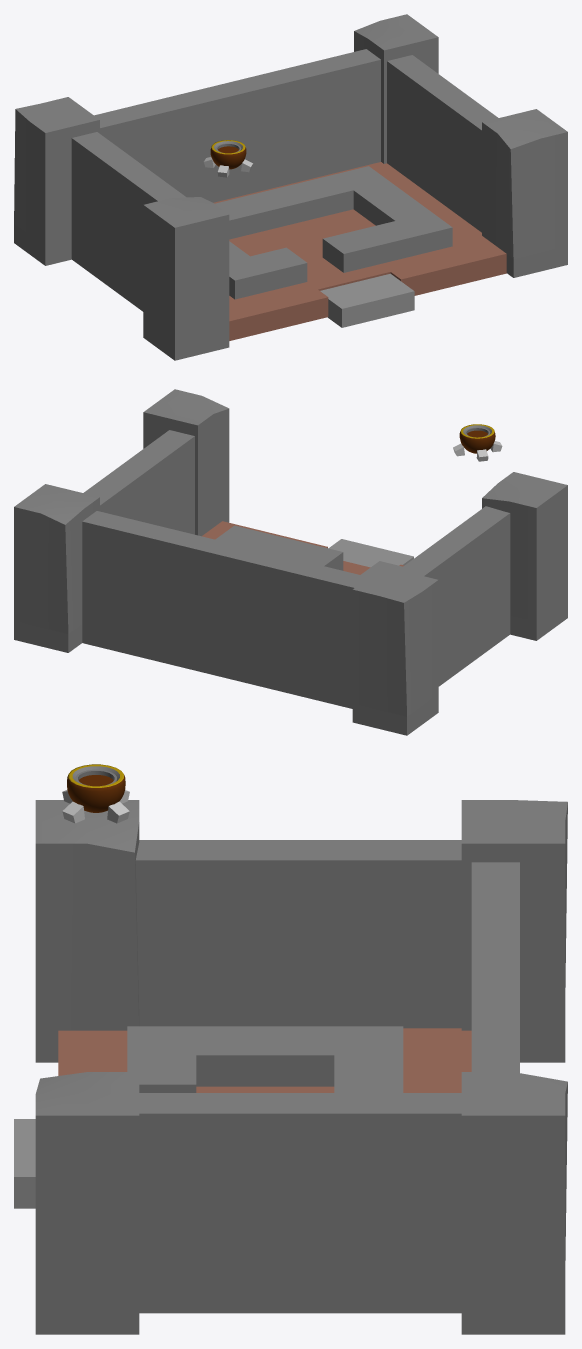
The model's file is Int_Marine_house (1).fbx.
3 views of the same model, one above another, from view 1: azimuth 30°, elevation 25°; view 2: azimuth 150°, elevation 25°; view 3: azimuth 270°, elevation 25° (orthographic). The views are drawn at different scales.
Visible parts, largest first — view 1: ZLD_MOD_INT_MARINE_HOUSE_wip_v001_0005:base_interieur, ZLD_MOD_INT_MARINE_HOUSE_wip_v001_0005:mur2, ZLD_MOD_INT_MARINE_HOUSE_wip_v001_0005:pillier4, ZLD_MOD_INT_MARINE_HOUSE_wip_v001_0005:pillier5, ZLD_MOD_INT_MARINE_HOUSE_wip_v001_0005:pCube2, ZLD_MOD_INT_MARINE_HOUSE_wip_v001_0005:pCube1, ZLD_MOD_INT_MARINE_HOUSE_wip_v001_0005:pillier3, ZLD_MOD_INT_MARINE_HOUSE_wip_v001_0005:pillier2, ZLD_MOD_INT_MARINE_HOUSE_wip_v001_0005:polySurface3, ZLD_MOD_INT_MARINE_HOUSE_wip_v001_0005:pot_brasero1; view 2: ZLD_MOD_INT_MARINE_HOUSE_wip_v001_0005:mur2, ZLD_MOD_INT_MARINE_HOUSE_wip_v001_0005:pillier3, ZLD_MOD_INT_MARINE_HOUSE_wip_v001_0005:pCube1, ZLD_MOD_INT_MARINE_HOUSE_wip_v001_0005:pillier2, ZLD_MOD_INT_MARINE_HOUSE_wip_v001_0005:pillier4, ZLD_MOD_INT_MARINE_HOUSE_wip_v001_0005:pCube2, ZLD_MOD_INT_MARINE_HOUSE_wip_v001_0005:pillier5, ZLD_MOD_INT_MARINE_HOUSE_wip_v001_0005:base_interieur, ZLD_MOD_INT_MARINE_HOUSE_wip_v001_0005:polySurface3, ZLD_MOD_INT_MARINE_HOUSE_wip_v001_0005:pot_brasero1; view 3: ZLD_MOD_INT_MARINE_HOUSE_wip_v001_0005:pCube2, ZLD_MOD_INT_MARINE_HOUSE_wip_v001_0005:pCube1, ZLD_MOD_INT_MARINE_HOUSE_wip_v001_0005:pillier2, ZLD_MOD_INT_MARINE_HOUSE_wip_v001_0005:pillier5, ZLD_MOD_INT_MARINE_HOUSE_wip_v001_0005:base_interieur, ZLD_MOD_INT_MARINE_HOUSE_wip_v001_0005:pillier4, ZLD_MOD_INT_MARINE_HOUSE_wip_v001_0005:pillier3, ZLD_MOD_INT_MARINE_HOUSE_wip_v001_0005:mur2, ZLD_MOD_INT_MARINE_HOUSE_wip_v001_0005:pot_brasero1, ZLD_MOD_INT_MARINE_HOUSE_wip_v001_0005:polySurface3.
Part boxes in pixels (left/top/right/bottom): ZLD_MOD_INT_MARINE_HOUSE_wip_v001_0005:base_interieur: left=213, top=162, right=506, bottom=340; ZLD_MOD_INT_MARINE_HOUSE_wip_v001_0005:mur2: left=94, top=49, right=380, bottom=202; ZLD_MOD_INT_MARINE_HOUSE_wip_v001_0005:pillier4: left=143, top=197, right=229, bottom=360; ZLD_MOD_INT_MARINE_HOUSE_wip_v001_0005:pillier5: left=482, top=109, right=567, bottom=277; ZLD_MOD_INT_MARINE_HOUSE_wip_v001_0005:pCube2: left=387, top=55, right=498, bottom=232; ZLD_MOD_INT_MARINE_HOUSE_wip_v001_0005:pCube1: left=71, top=132, right=186, bottom=311; ZLD_MOD_INT_MARINE_HOUSE_wip_v001_0005:pillier3: left=14, top=97, right=99, bottom=265; ZLD_MOD_INT_MARINE_HOUSE_wip_v001_0005:pillier2: left=354, top=14, right=438, bottom=163; ZLD_MOD_INT_MARINE_HOUSE_wip_v001_0005:polySurface3: left=320, top=273, right=414, bottom=327; ZLD_MOD_INT_MARINE_HOUSE_wip_v001_0005:pot_brasero1: left=210, top=140, right=246, bottom=169; ZLD_MOD_INT_MARINE_HOUSE_wip_v001_0005:mur2: left=82, top=511, right=368, bottom=708; ZLD_MOD_INT_MARINE_HOUSE_wip_v001_0005:pillier3: left=352, top=566, right=438, bottom=735; ZLD_MOD_INT_MARINE_HOUSE_wip_v001_0005:pCube1: left=399, top=506, right=510, bottom=686; ZLD_MOD_INT_MARINE_HOUSE_wip_v001_0005:pillier2: left=14, top=484, right=99, bottom=652; ZLD_MOD_INT_MARINE_HOUSE_wip_v001_0005:pillier4: left=482, top=472, right=567, bottom=640; ZLD_MOD_INT_MARINE_HOUSE_wip_v001_0005:pCube2: left=83, top=430, right=194, bottom=534; ZLD_MOD_INT_MARINE_HOUSE_wip_v001_0005:pillier5: left=143, top=389, right=229, bottom=536; ZLD_MOD_INT_MARINE_HOUSE_wip_v001_0005:base_interieur: left=202, top=521, right=404, bottom=577; ZLD_MOD_INT_MARINE_HOUSE_wip_v001_0005:polySurface3: left=328, top=539, right=413, bottom=567; ZLD_MOD_INT_MARINE_HOUSE_wip_v001_0005:pot_brasero1: left=459, top=424, right=495, bottom=453; ZLD_MOD_INT_MARINE_HOUSE_wip_v001_0005:pCube2: left=139, top=1093, right=461, bottom=1313; ZLD_MOD_INT_MARINE_HOUSE_wip_v001_0005:pCube1: left=135, top=840, right=461, bottom=1028; ZLD_MOD_INT_MARINE_HOUSE_wip_v001_0005:pillier2: left=461, top=1072, right=567, bottom=1334; ZLD_MOD_INT_MARINE_HOUSE_wip_v001_0005:pillier5: left=35, top=1072, right=139, bottom=1334; ZLD_MOD_INT_MARINE_HOUSE_wip_v001_0005:base_interieur: left=58, top=1026, right=471, bottom=1092; ZLD_MOD_INT_MARINE_HOUSE_wip_v001_0005:pillier4: left=35, top=800, right=139, bottom=1062; ZLD_MOD_INT_MARINE_HOUSE_wip_v001_0005:pillier3: left=461, top=800, right=567, bottom=1062; ZLD_MOD_INT_MARINE_HOUSE_wip_v001_0005:mur2: left=471, top=862, right=519, bottom=1072; ZLD_MOD_INT_MARINE_HOUSE_wip_v001_0005:pot_brasero1: left=67, top=764, right=125, bottom=812; ZLD_MOD_INT_MARINE_HOUSE_wip_v001_0005:polySurface3: left=14, top=1119, right=35, bottom=1208.
Size of the model in its own units: 1083 by 485 by 803.
